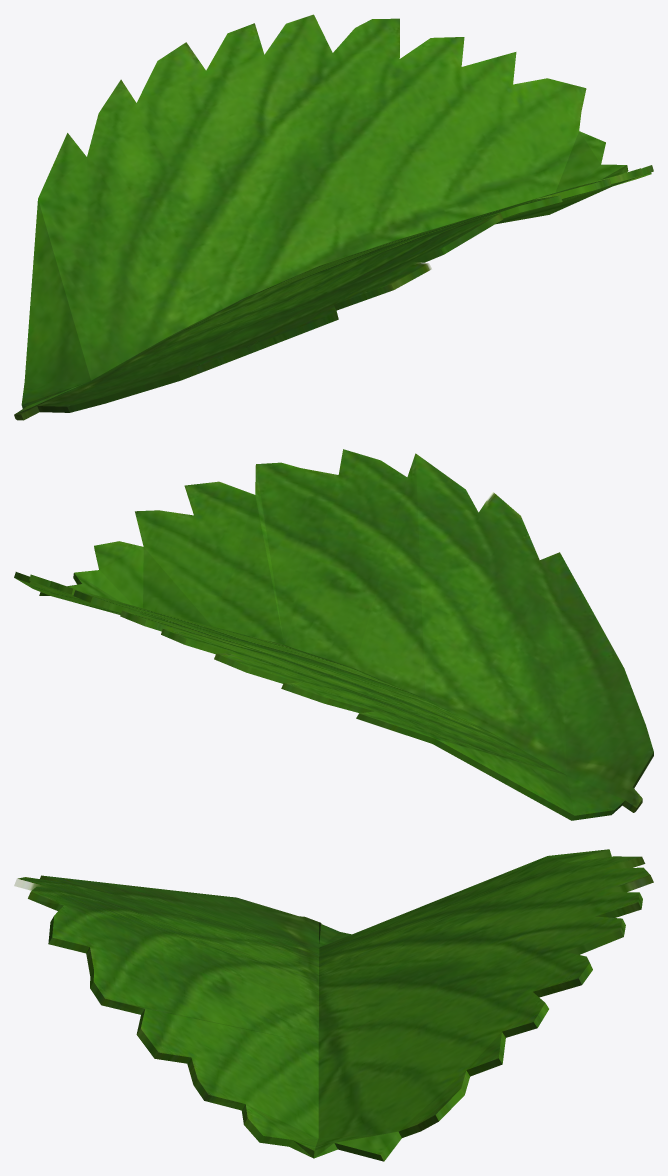
File: leaf1_g2.dae
The picture shows the model from 3 angles, top to bottom: view 1: azimuth 30°, elevation 25°; view 2: azimuth 150°, elevation 25°; view 3: azimuth 270°, elevation 25°; orthographic projection. The views are drawn at different scales.
Parts seen in each view (by area): view 1: Plane; view 2: Plane; view 3: Plane.
Part boxes in pixels (x1,y1,x2,y2): Plane: (14, 14, 653, 420); Plane: (14, 449, 653, 820); Plane: (14, 849, 653, 1161).
Size of the model in its own units: 0.1327 by 0.101 by 0.0426.
Materials: 1 (1 with a texture image).
